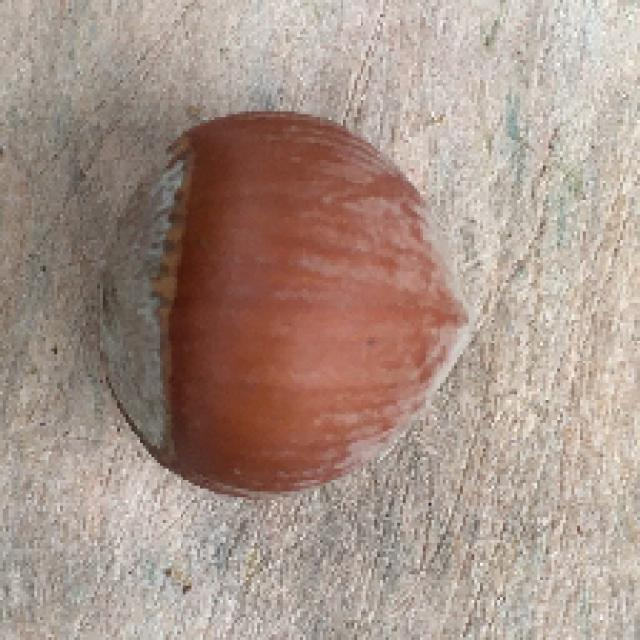QualityHazelnut: (96, 108, 482, 502)
